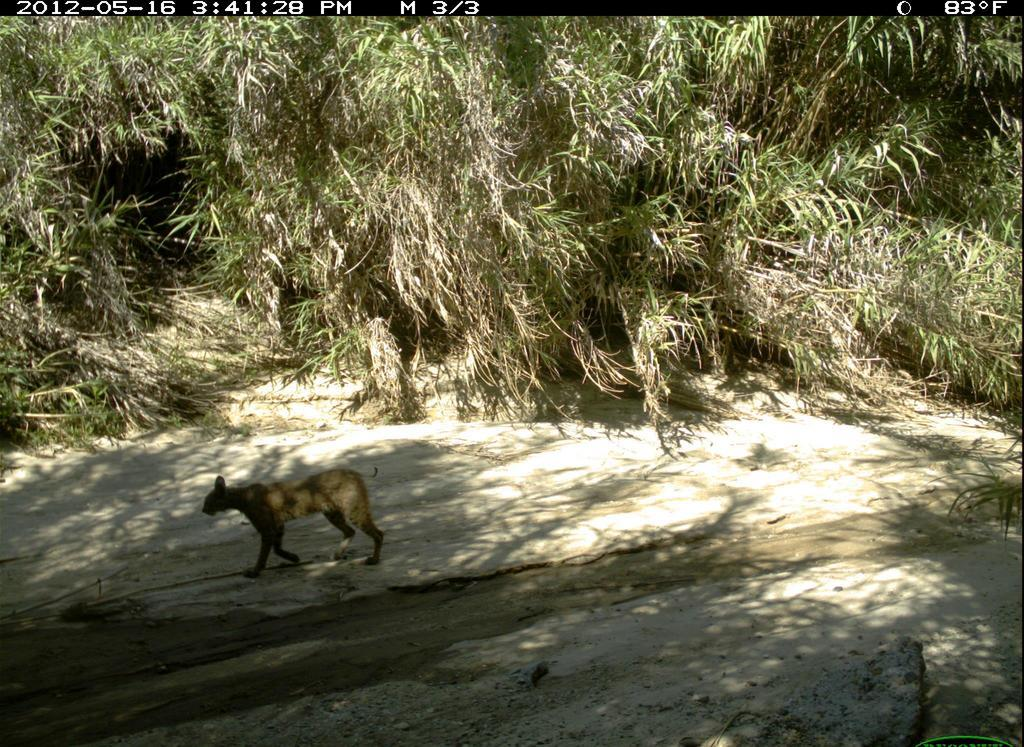bobcat: (191, 459, 403, 587)
